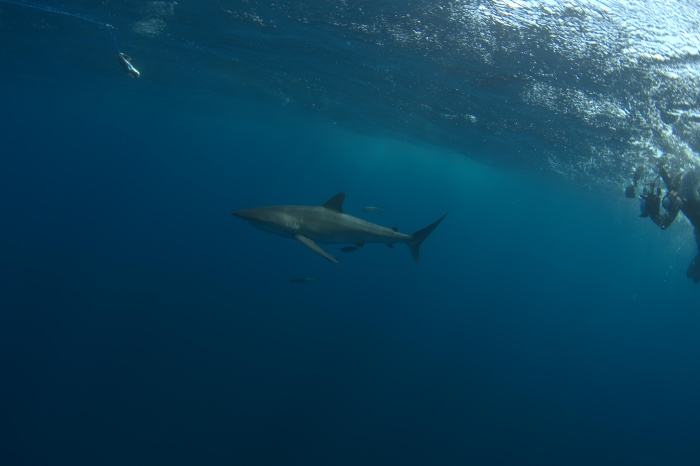Sedoso: (210, 183, 460, 276)
